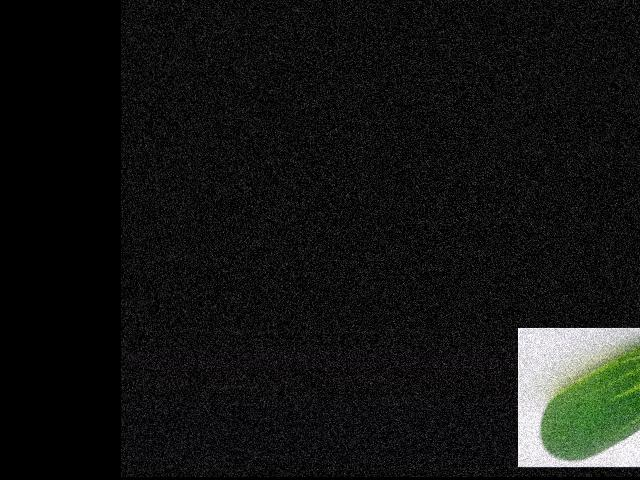cucumber: (540, 342, 640, 460)
